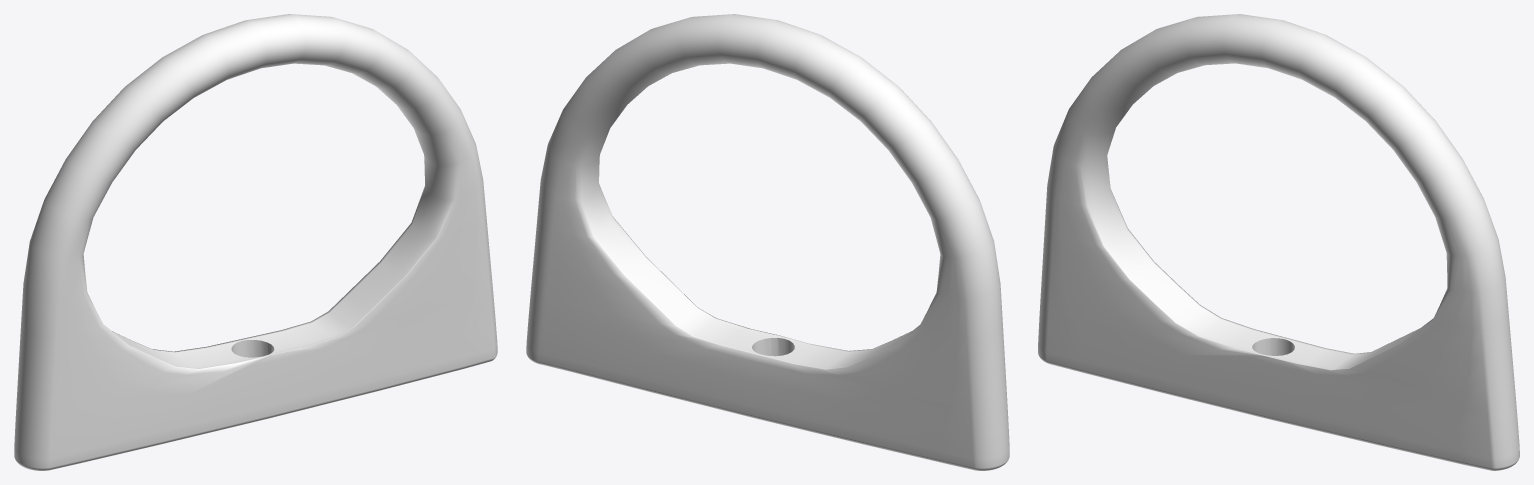
File: SA 10 (AFA930001).glb
The picture shows the model from 3 angles, left to right: view 1: azimuth 30°, elevation 25°; view 2: azimuth 150°, elevation 25°; view 3: azimuth 330°, elevation 25°; orthographic projection.
Visible parts, largest first — view 1: SA_10__AFA930001_2; view 2: SA_10__AFA930001_2; view 3: SA_10__AFA930001_2.
Part boxes in pixels (x1,y1,x2,y2): SA_10__AFA930001_2: [14, 14, 497, 470]; SA_10__AFA930001_2: [526, 14, 1009, 470]; SA_10__AFA930001_2: [1038, 14, 1519, 470].
Size of the model in its own units: 11.74 by 9.18 by 1.2.
1 material, 1 textured.
